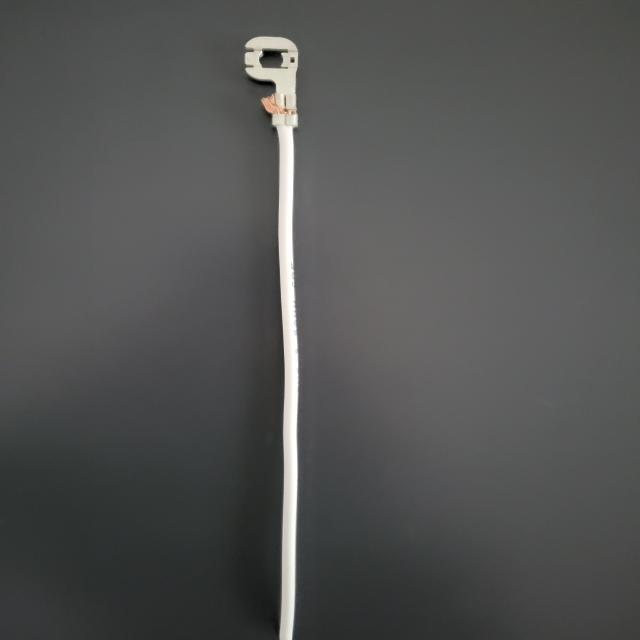defect: (232, 85, 354, 156)
